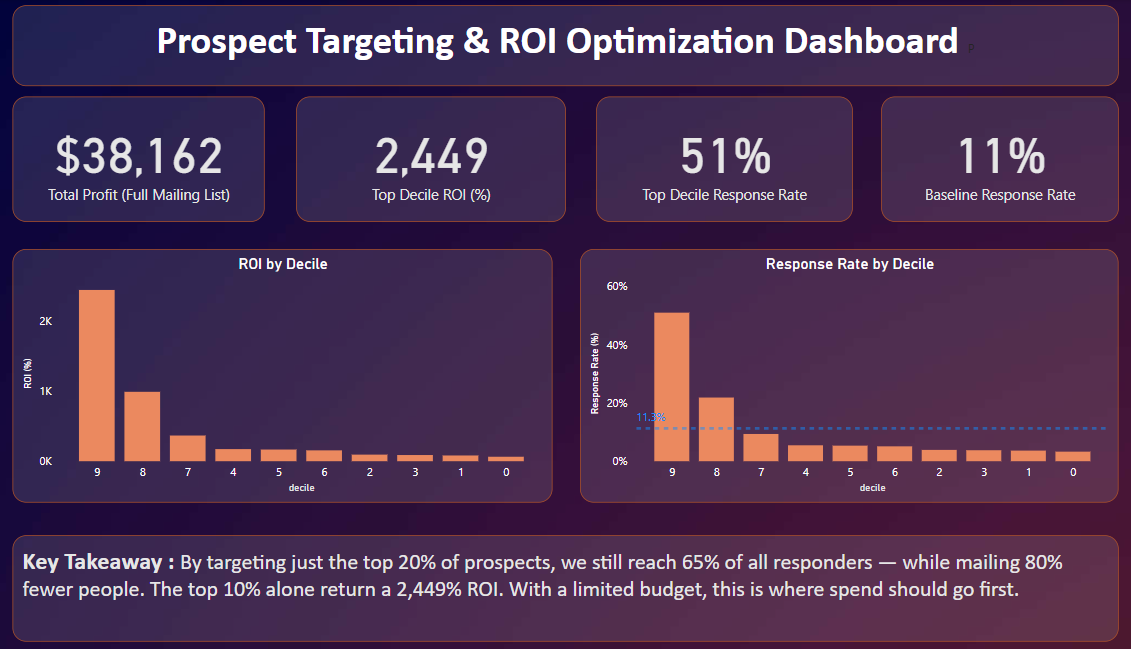

Layout of this report page (visuals, bound fields, positions):
{"tool":"powerbi","page":{"name":"Page 1","canvas":[1280,720],"ordinal":0},"visuals":[{"type":"card","title":"Top Decile Response Rate","fields":{"Values":["Sum(decile_roi_summary.response_rate)"]},"box":[687.5,107,281.3,137.2],"z":0},{"type":"card","title":"Top Decile ROI (%)","fields":{"Values":["Sum(decile_roi_summary.roi_pct)"]},"box":[358.1,107,296.4,137.2],"z":1000},{"type":"card","title":"Total profit (full mailing list)","fields":{"Values":["Sum(decile_roi_summary.profit)"]},"box":[46.7,107,277.2,137.2],"z":2000},{"type":"clusteredColumnChart","title":"Response Rate by Decile","fields":{"Y":["Avg(decile_roi_summary.response_rate)"],"Category":["decile_roi_summary.decile"]},"box":[669.6,274.4,591.4,278.6],"z":3000},{"type":"clusteredColumnChart","title":"ROI by Decile","fields":{"Category":["decile_roi_summary.decile"],"Y":["Sum(decile_roi_summary.roi_pct)"]},"box":[46.7,274.4,592.8,278.6],"z":4000},{"type":"card","title":"Baseline Response Rate","fields":{"Values":["decile_roi_summary.Baseline Response Rate"]},"box":[1000.3,107,260.7,137.2],"z":5000},{"type":"textbox","box":[46.7,6.9,1214.4,89.2],"z":6000},{"type":"textbox","box":[46.7,588.7,1214.4,116.6],"z":7000}]}

Visuals, with their boxes in screenshot pixels (x1, y1, x2, y2), scaled from the page's 1280x720 canvas onto the 1131x649 screenshot:
"Top Decile Response Rate" card: (x1=607, y1=96, x2=856, y2=220)
"Top Decile ROI (%)" card: (x1=316, y1=96, x2=578, y2=220)
"Total profit (full mailing list)" card: (x1=41, y1=96, x2=286, y2=220)
"Response Rate by Decile" clusteredColumnChart: (x1=592, y1=247, x2=1114, y2=498)
"ROI by Decile" clusteredColumnChart: (x1=41, y1=247, x2=565, y2=498)
"Baseline Response Rate" card: (x1=884, y1=96, x2=1114, y2=220)
textbox: (x1=41, y1=6, x2=1114, y2=87)
textbox: (x1=41, y1=531, x2=1114, y2=636)
